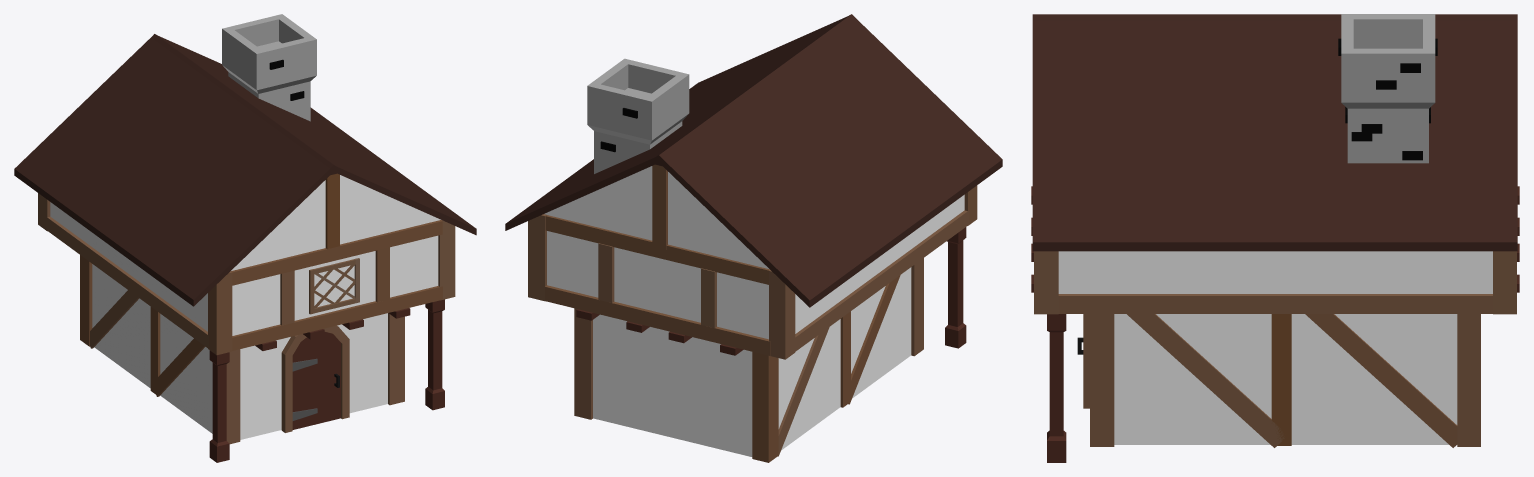
Rendered from House_Textured.fbx.
3 views of the same model, side by side, from view 1: azimuth 30°, elevation 25°; view 2: azimuth 150°, elevation 25°; view 3: azimuth 270°, elevation 25° (orthographic). The views are drawn at different scales.
Visible parts, largest first — view 1: Box003, RoofBase, HouseBase, Box004, Door, RoofPlank6, RoofPlank, RoofPlank2, RoofCorner, CornerPillar, CornerPillar1, HouseCorner3 (+9 smaller); view 2: Box003, HouseBase, RoofBase, Box004, RoofPlank003, RoofPlank010, RoofPlank2, HouseCorner1, RoofCorner3, CornerPillar, HouseCorner2, RoofCorner2 (+7 smaller); view 3: Box003, HouseBase, RoofBase, Box004, RoofPlank1, SideSupport1, SideSupport2, HouseCorner3, HouseCorner2, SideSupport, CornerPillar1, RoofCorner1 (+2 smaller).
Boxes of the visible parts, <box> form: Box003: <box>14,34,476,306</box>; RoofBase: <box>50,175,440,335</box>; HouseBase: <box>92,264,387,439</box>; Box004: <box>222,14,316,121</box>; Door: <box>281,325,349,432</box>; RoofPlank6: <box>231,220,442,285</box>; RoofPlank: <box>232,286,442,350</box>; RoofPlank2: <box>47,216,208,348</box>; RoofCorner: <box>208,271,232,355</box>; CornerPillar: <box>209,350,229,462</box>; CornerPillar1: <box>425,299,444,410</box>; HouseCorner3: <box>388,313,404,405</box>; Box003: <box>505,14,1002,307</box>; HouseBase: <box>593,267,911,456</box>; RoofBase: <box>544,166,964,339</box>; Box004: <box>587,58,689,173</box>; RoofPlank003: <box>545,285,770,355</box>; RoofPlank010: <box>545,215,769,284</box>; RoofPlank2: <box>795,210,969,351</box>; HouseCorner1: <box>752,352,778,462</box>; RoofCorner3: <box>769,270,795,359</box>; CornerPillar: <box>945,227,966,348</box>; HouseCorner2: <box>574,308,592,419</box>; RoofCorner2: <box>528,214,546,301</box>; Box003: <box>1032,14,1517,251</box>; HouseBase: <box>1114,314,1457,444</box>; RoofBase: <box>1058,251,1492,293</box>; Box004: <box>1341,14,1435,163</box>; RoofPlank1: <box>1058,294,1492,313</box>; SideSupport1: <box>1127,314,1284,447</box>; SideSupport2: <box>1305,314,1457,447</box>; HouseCorner3: <box>1090,314,1114,446</box>; HouseCorner2: <box>1457,314,1480,446</box>; SideSupport: <box>1271,314,1291,445</box>; CornerPillar1: <box>1047,314,1066,462</box>; RoofCorner1: <box>1034,251,1058,314</box>.
Bounding box in the file's own units: 679 × 676 × 750.
